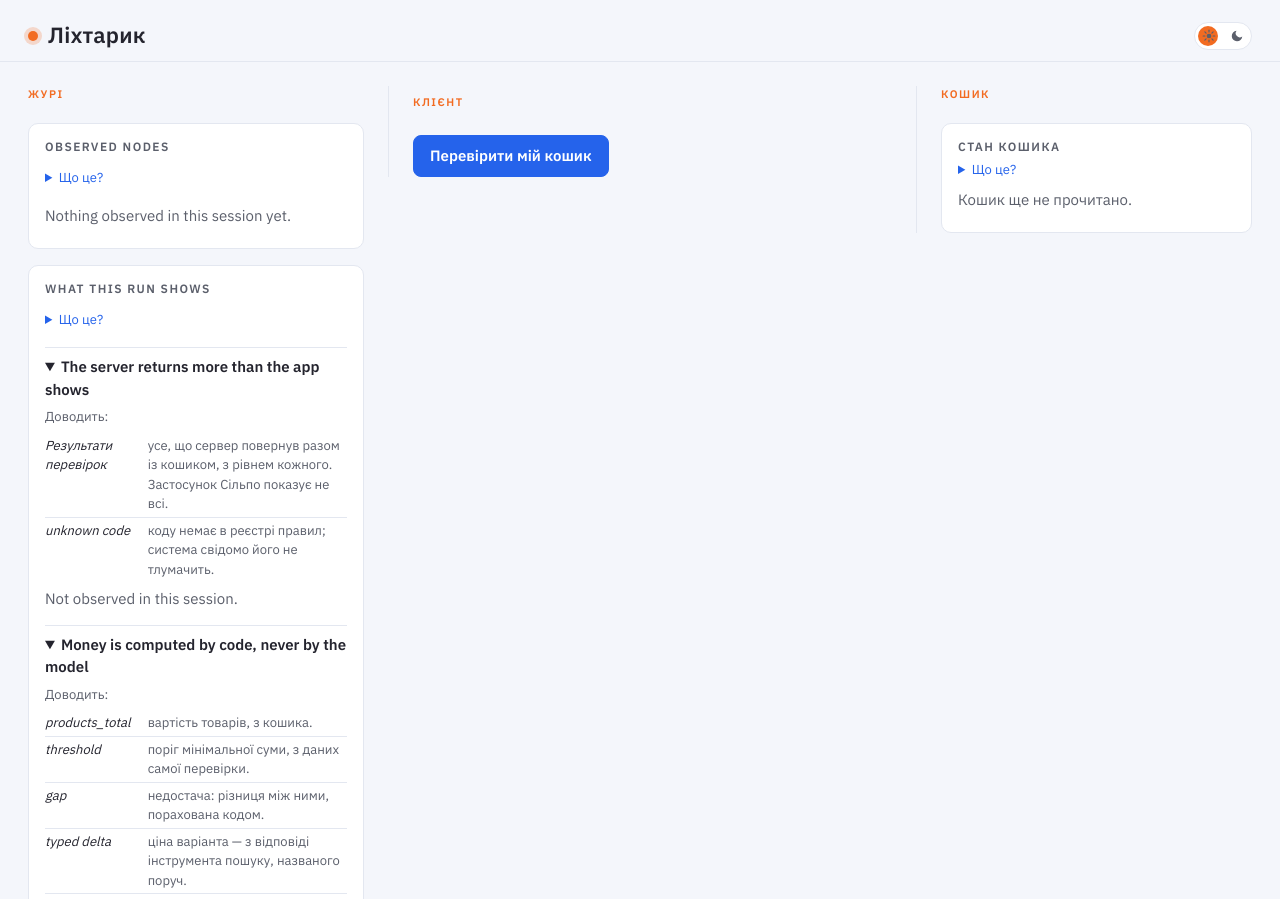
Test: recovery card › surfaces an error event as its own screen
Click the button "Перевірити мій кошик" at (511, 156), box [413, 134, 609, 177]
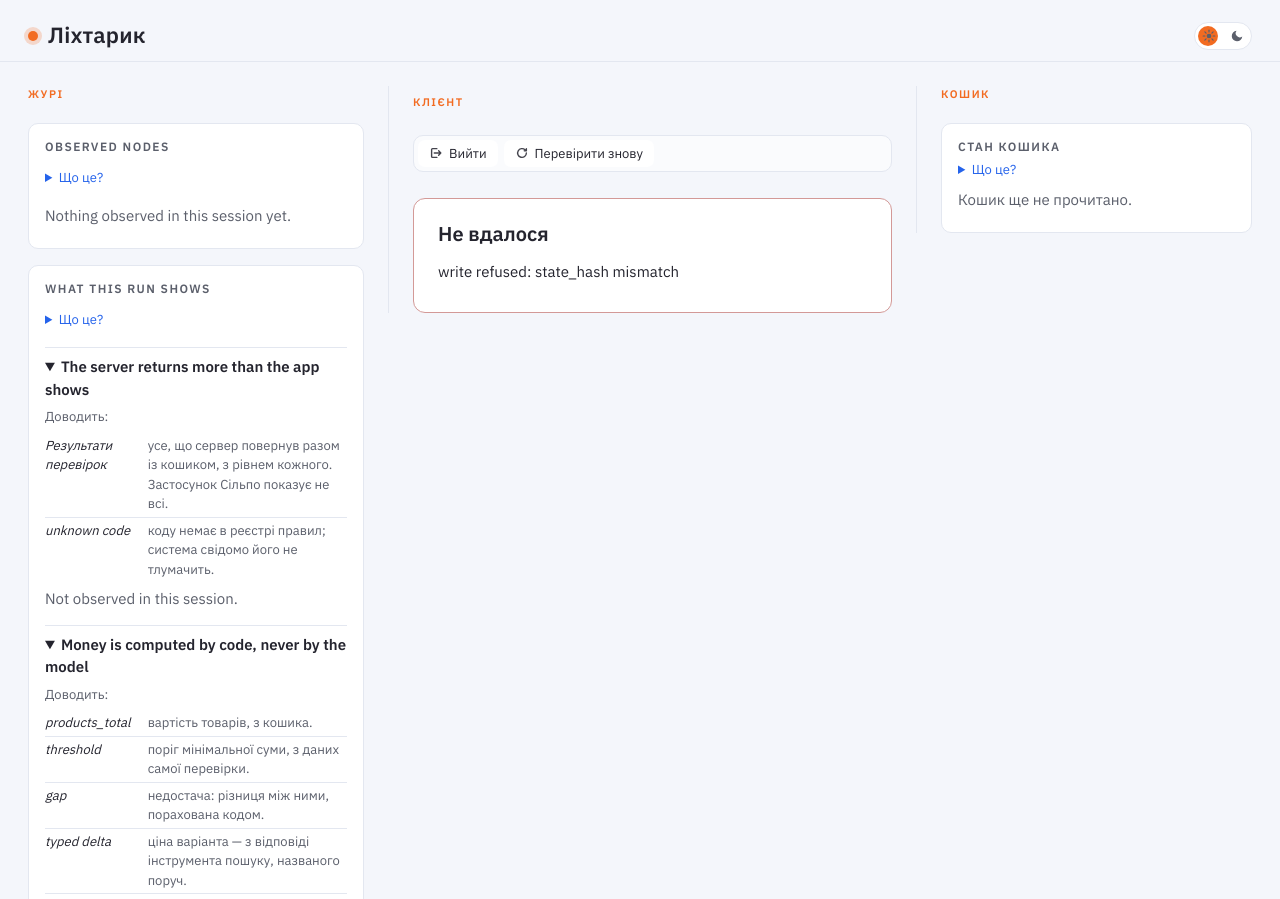
Expected: the text with test id "error-message" reads "write refused: state_hash mismatch", [438, 262, 679, 281]
